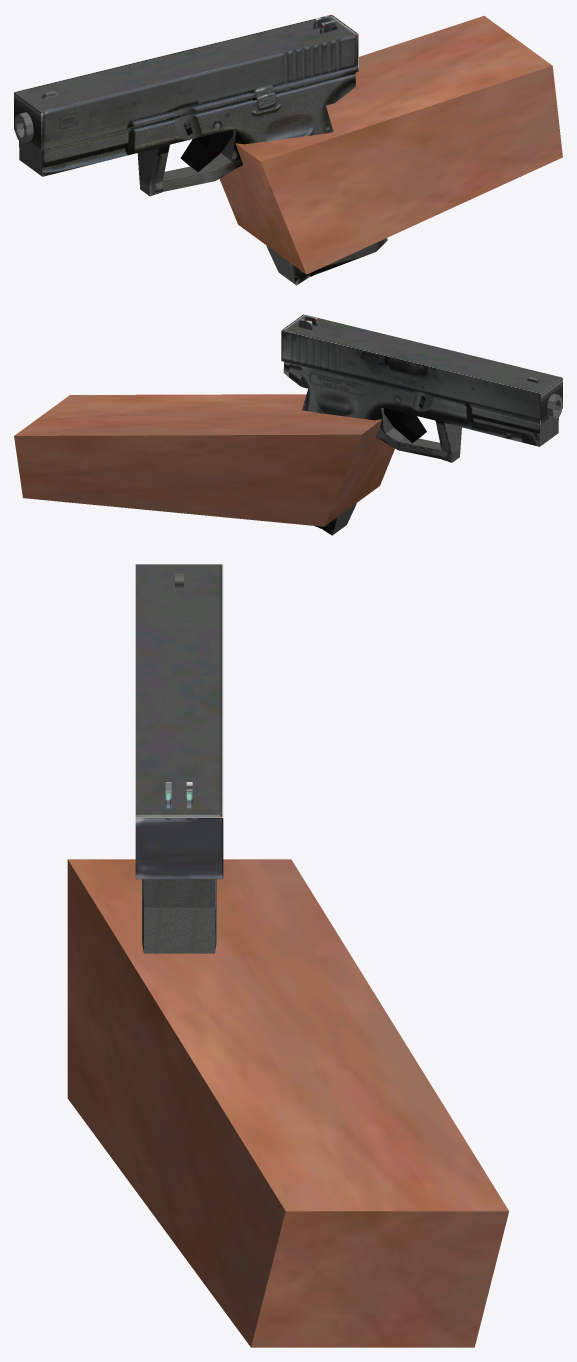
The model's file is pistol_000002.obj.
3 views of the same model, one above another, from view 1: azimuth 30°, elevation 25°; view 2: azimuth 150°, elevation 25°; view 3: azimuth 270°, elevation 25° (orthographic). The views are drawn at different scales.
Visible parts, largest first — view 1: Cube, Cube.001, Cube.003; view 2: Cube, Cube.001, Cube.003; view 3: Cube, Cube.001.
Boxes of the visible parts, box(x1,y1,x2,y2) form: Cube: box(14, 15, 562, 285); Cube.001: box(14, 14, 358, 149); Cube.003: box(180, 129, 232, 172); Cube: box(14, 362, 562, 535); Cube.001: box(281, 314, 562, 424); Cube.003: box(384, 408, 426, 442); Cube: box(67, 859, 509, 1347); Cube.001: box(135, 564, 223, 879).
Bounding box in the file's own units: 1.74 × 0.7352 × 0.7214.
